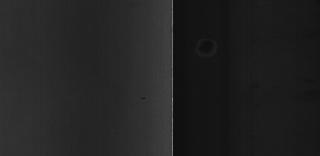oil spot: (137, 95, 151, 101)
